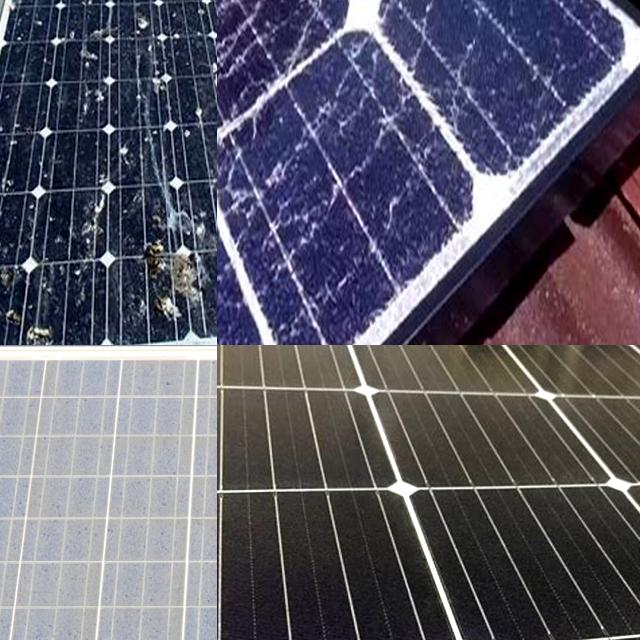bird: (137, 237, 211, 329), (73, 157, 124, 257), (24, 295, 67, 345), (0, 123, 30, 181)
crack: (379, 466, 640, 640), (217, 480, 487, 640), (356, 386, 638, 526), (217, 375, 422, 519), (537, 377, 640, 517)
dust: (0, 366, 127, 560), (139, 346, 217, 566), (0, 573, 105, 640), (115, 574, 217, 640)
hotspot: (218, 158, 328, 312), (217, 102, 297, 293), (290, 0, 417, 94), (217, 0, 295, 80)
